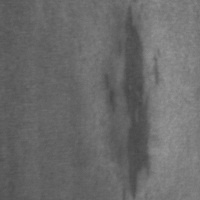inclusion: (115, 3, 167, 199), (95, 69, 120, 116)
